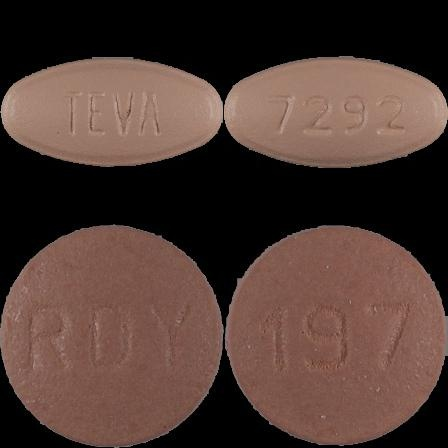76519-1001: (0, 0, 224, 224)
